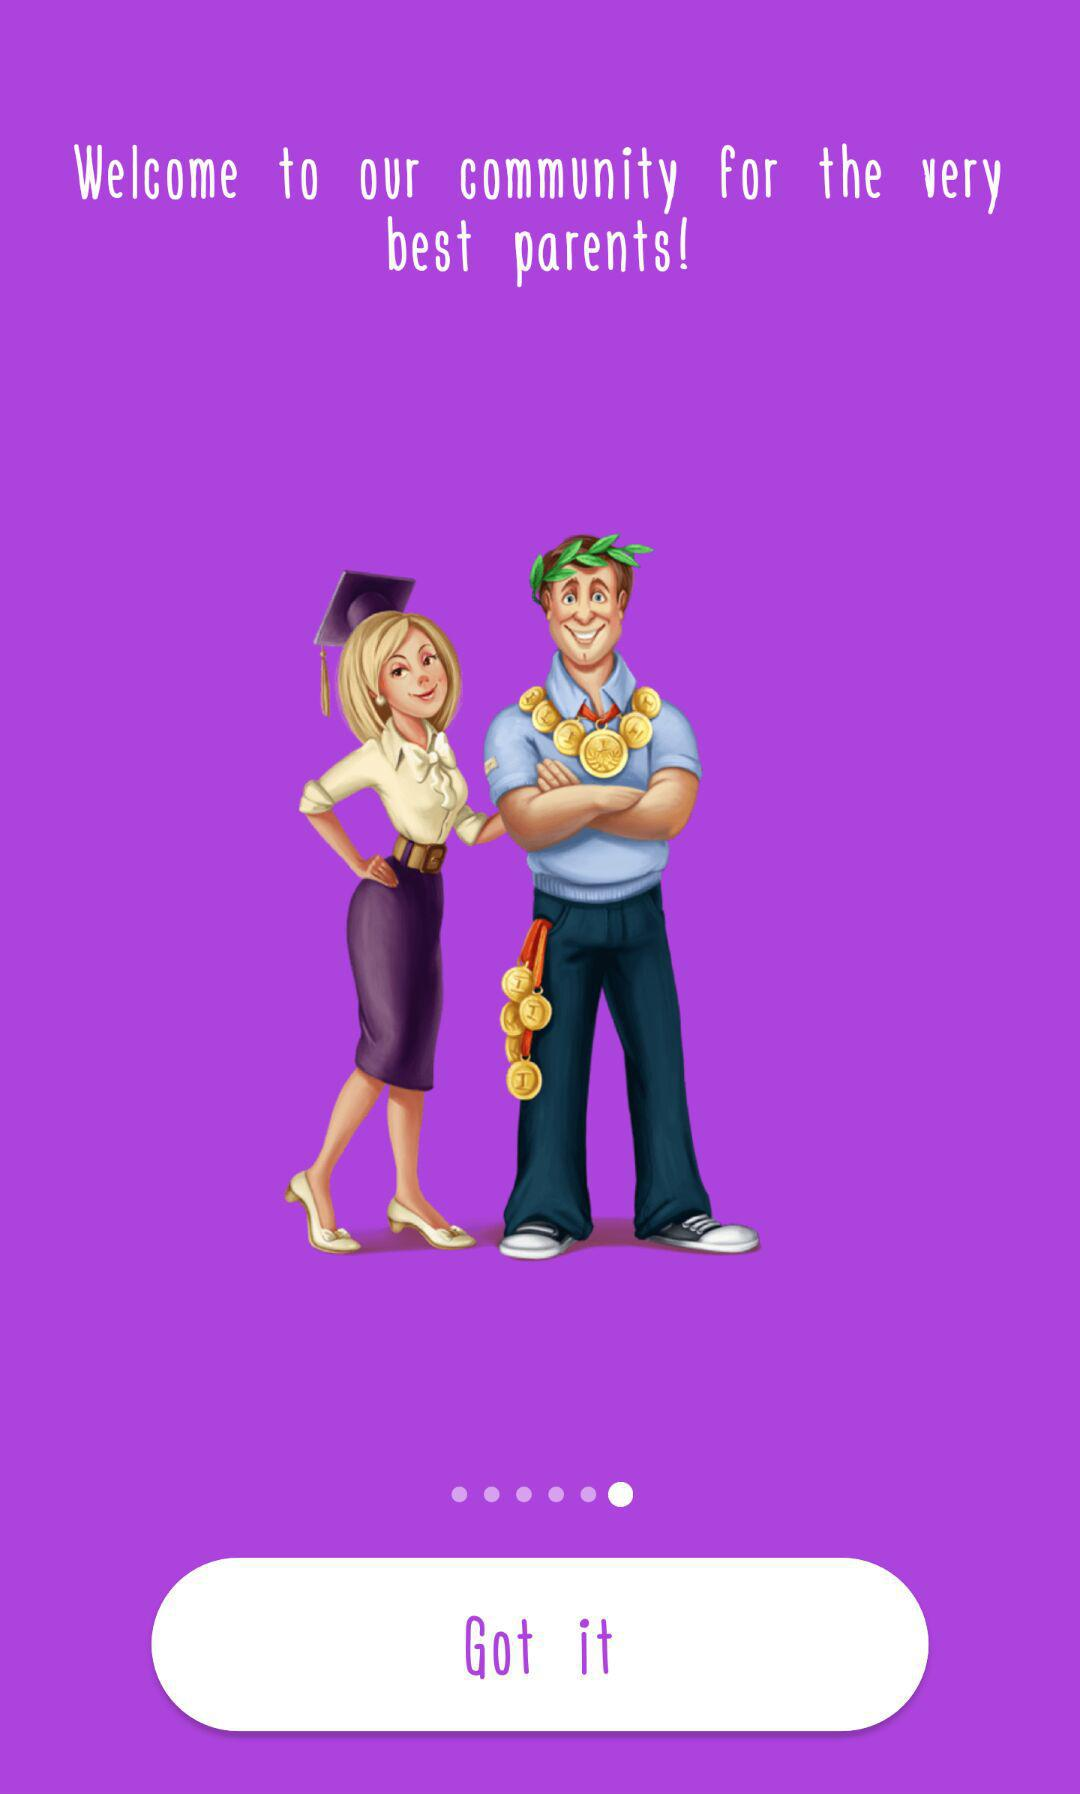Image: (283, 531, 760, 1260)
PageIndicator: (450, 1480, 635, 1510)
Text: (73, 144, 1002, 290)
TextButton: (151, 1557, 930, 1732)
